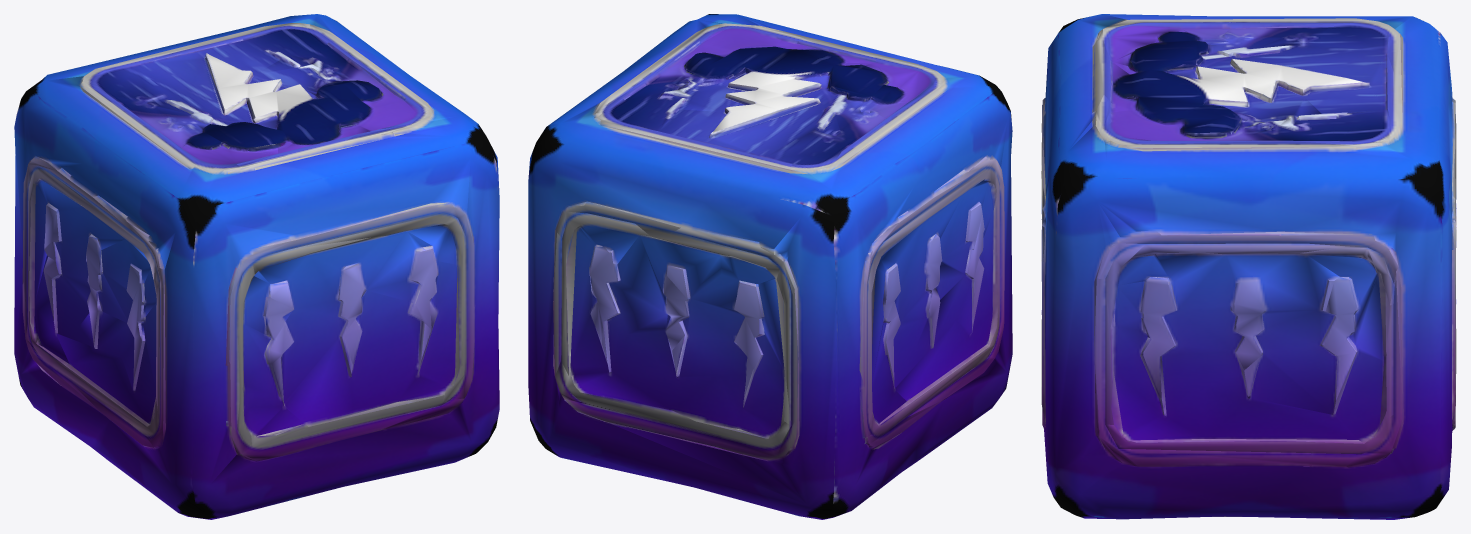
Rendered from lightning_cloud_cube_mobile_lod1.glb.
3 renders of one model, left to right at view 1: azimuth 30°, elevation 25°; view 2: azimuth 150°, elevation 25°; view 3: azimuth 270°, elevation 25°, orthographic. The views are drawn at different scales.
Parts seen in each view (by area): view 1: output; view 2: output; view 3: output.
Part boxes in pixels (box(x1,y1,x2,y2)): output: box(14, 14, 499, 519); output: box(528, 14, 1012, 519); output: box(1041, 14, 1456, 519).
Bounding box in the file's own units: 1.89 × 1.91 × 1.89.
Materials: 1 (1 with a texture image).
